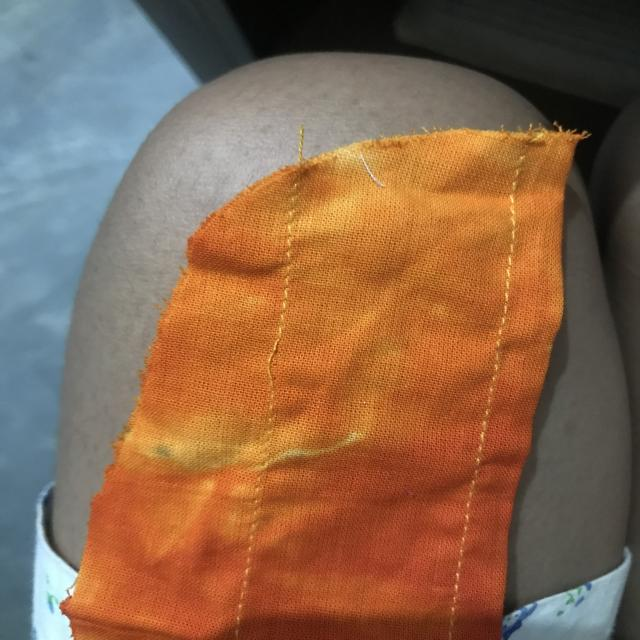skip: (253, 332, 304, 399)
